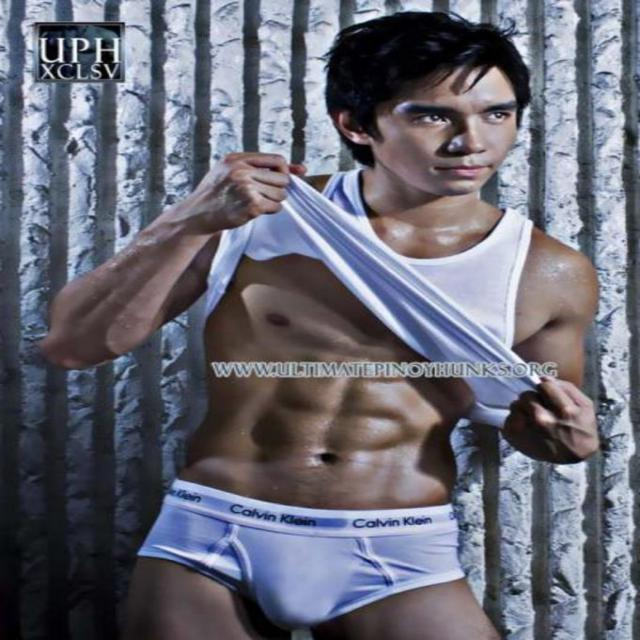closed-mouth: (440, 160, 492, 180)
